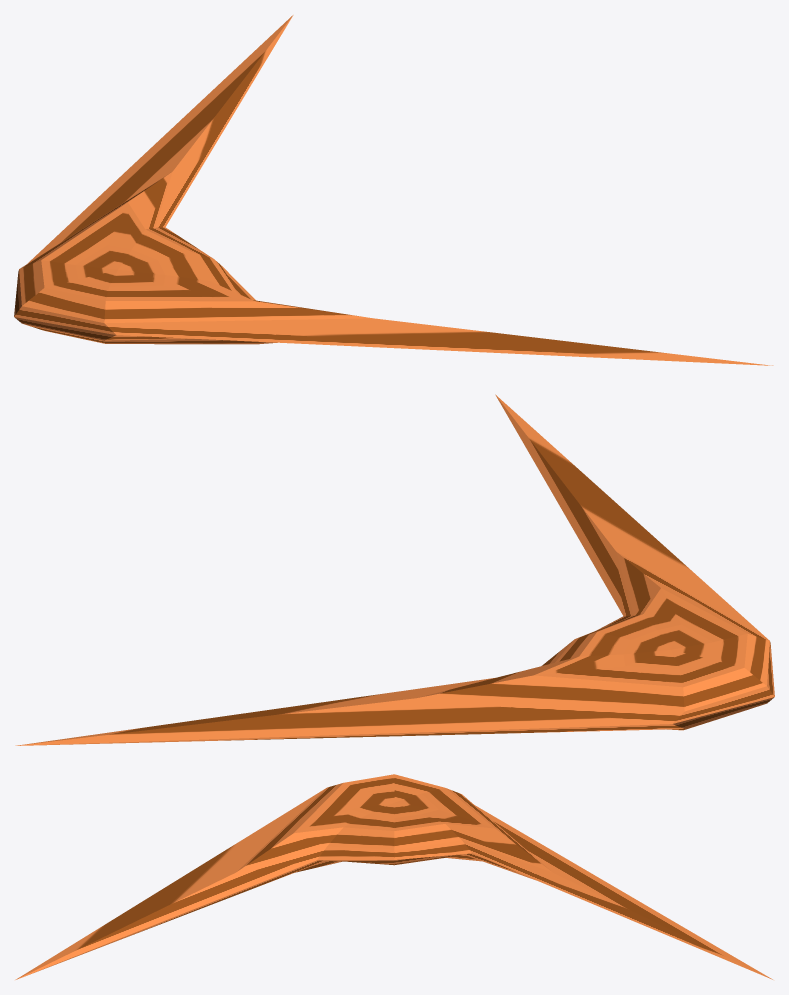
Rendered from Boomerang_001.fbx.
3 renders of one model, top to bottom at view 1: azimuth 30°, elevation 25°; view 2: azimuth 150°, elevation 25°; view 3: azimuth 270°, elevation 25°, orthographic. The views are drawn at different scales.
Parts seen in each view (by area): view 1: Sphere; view 2: Sphere; view 3: Sphere.
Part boxes in pixels (bbox=[...]): Sphere: bbox=[14, 15, 773, 365]; Sphere: bbox=[15, 394, 774, 745]; Sphere: bbox=[15, 774, 772, 979].
Size of the model in its own units: 500 by 45.44 by 800.
1 material, 1 textured.
